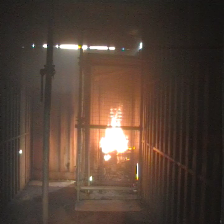fire_h: (100, 103, 129, 153)
fire_l: (116, 154, 129, 163), (104, 154, 111, 161)
